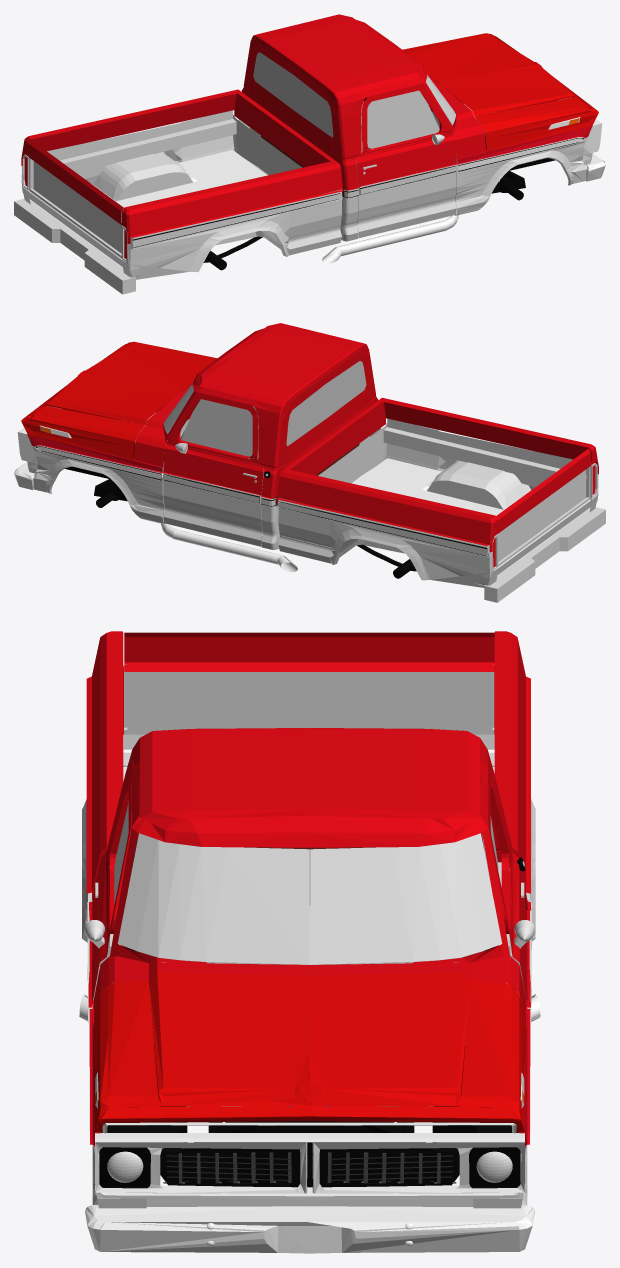
3 views of the same model, one above another, from view 1: azimuth 30°, elevation 25°; view 2: azimuth 150°, elevation 25°; view 3: azimuth 270°, elevation 25° (orthographic). The views are drawn at different scales.
Visible parts, largest first — view 1: body_90, body_91, body_89, body_13, body_46, body_47, body_88, body_82, body_0, body_53, body_15, body_2 (+14 smaller); view 2: body_90, body_91, body_89, body_13, body_46, body_47, body_88, body_82, body_1, body_15, body_53, body_2 (+14 smaller); view 3: body_13, body_91, body_93, body_88, body_96, body_89, body_87, body_102, body_81, body_94, body_46, body_82 (+9 smaller).
Part boxes in pixels (box(x1,y1,x2,y2)): body_90: box(21, 110, 341, 279); body_91: box(241, 14, 454, 190); body_89: box(21, 89, 343, 243); body_13: box(402, 33, 598, 151); body_46: box(356, 83, 456, 187); body_47: box(255, 132, 456, 237); body_88: box(28, 158, 122, 266); body_82: box(361, 129, 587, 215); body_0: box(361, 90, 439, 149); body_53: box(29, 150, 267, 267); body_15: box(14, 199, 135, 294); body_2: box(253, 52, 334, 147); body_90: box(278, 418, 598, 587); body_91: box(165, 323, 378, 498); body_89: box(276, 397, 598, 552); body_13: box(21, 341, 216, 459); body_46: box(163, 392, 263, 495); body_47: box(163, 440, 363, 546); body_88: box(497, 466, 591, 574); body_82: box(32, 406, 255, 524); body_1: box(181, 399, 258, 457); body_15: box(484, 507, 605, 602); body_53: box(281, 458, 590, 585); body_2: box(286, 361, 366, 446); body_13: box(92, 972, 526, 1132); body_91: box(89, 728, 530, 957); body_93: box(117, 833, 502, 964); body_88: box(123, 664, 494, 749); body_96: box(85, 1205, 534, 1253); body_89: box(86, 631, 530, 899); body_87: box(124, 632, 494, 671); body_102: box(95, 1133, 524, 1200); body_81: box(101, 1046, 518, 1187); body_94: box(94, 944, 525, 1023); body_46: box(88, 774, 530, 1007); body_82: box(92, 1132, 527, 1206).
Size of the model in its own units: 4.95 by 1.55 by 2.04.
